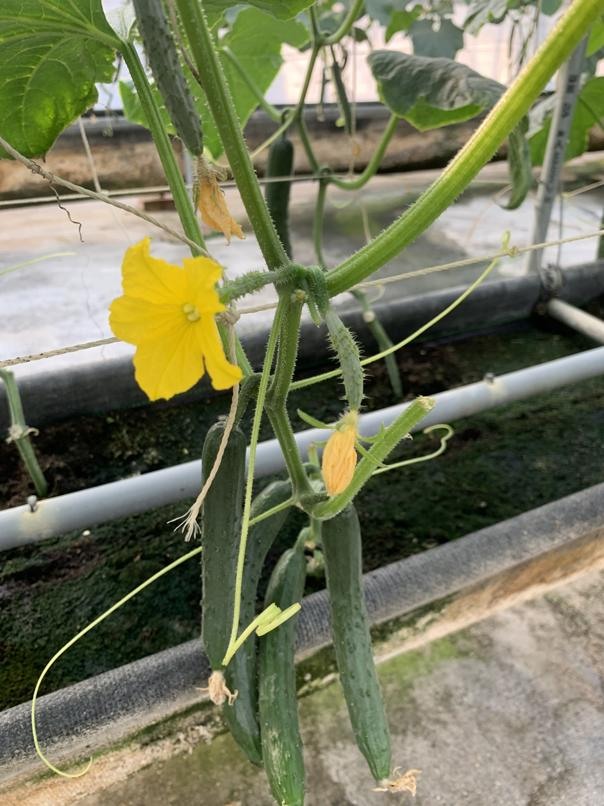bird: (360, 49, 554, 209)
